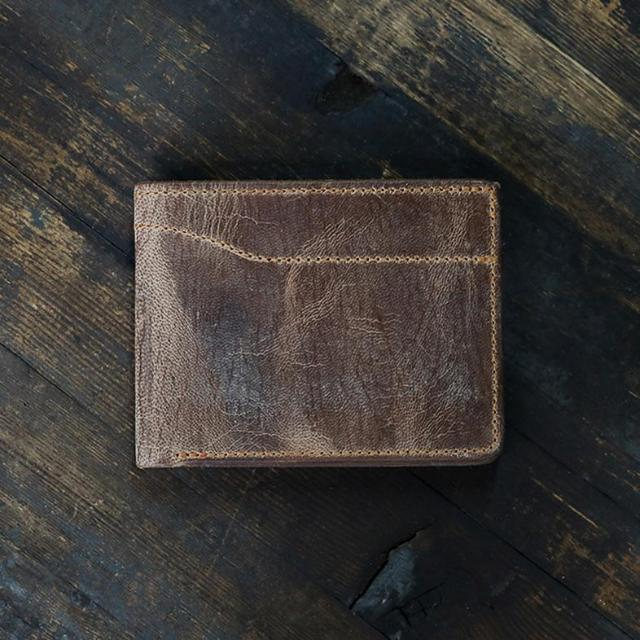wallet: (134, 179, 502, 471)
